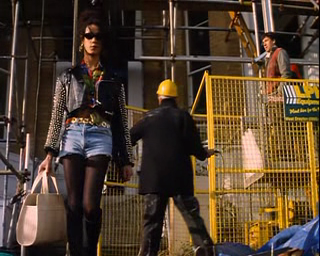face: (80, 24, 105, 56), (262, 35, 275, 52)
ls: (1, 1, 320, 256)
person: (38, 9, 135, 256), (129, 79, 215, 256), (258, 32, 292, 94)
